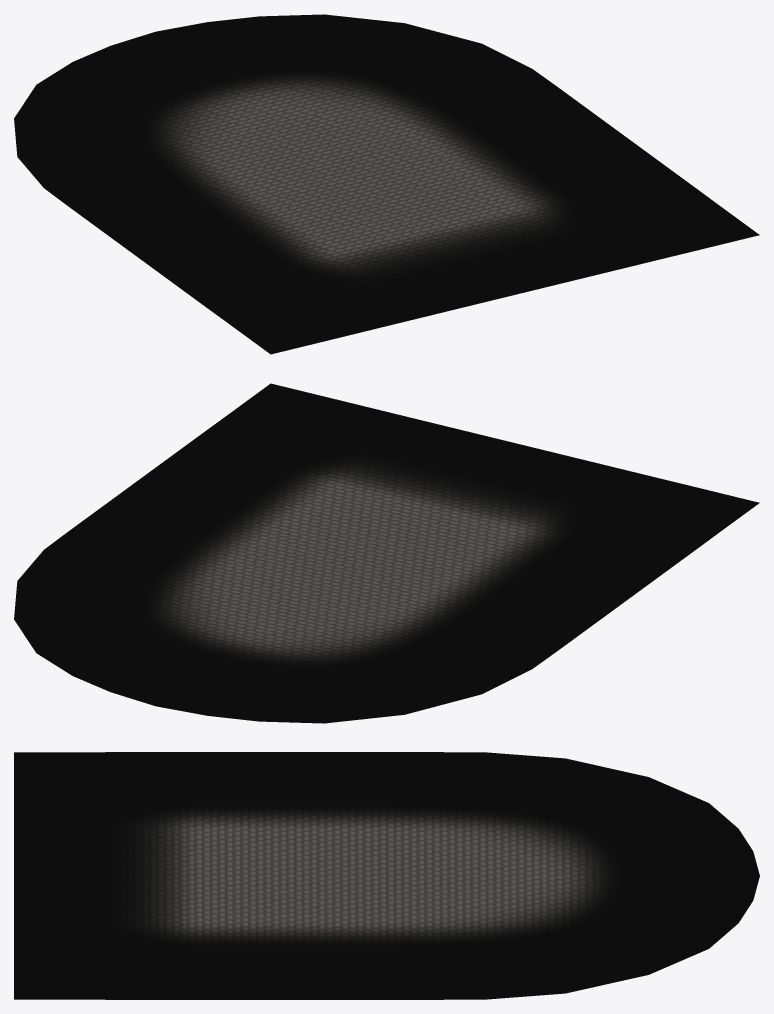
Rendered from ground.fbx.
3 views of the same model, one above another, from view 1: azimuth 30°, elevation 25°; view 2: azimuth 150°, elevation 25°; view 3: azimuth 270°, elevation 25° (orthographic). The views are drawn at different scales.
Parts seen in each view (by area): view 1: ground; view 2: ground; view 3: ground.
Boxes of the visible parts, x1,y1,x2,y2 form: ground: (14, 14, 759, 354); ground: (14, 383, 759, 723); ground: (14, 752, 759, 999).
Size of the model in its own units: 5738 by 9.74e-13 by 7301.
Materials: 1 (1 with a texture image).
